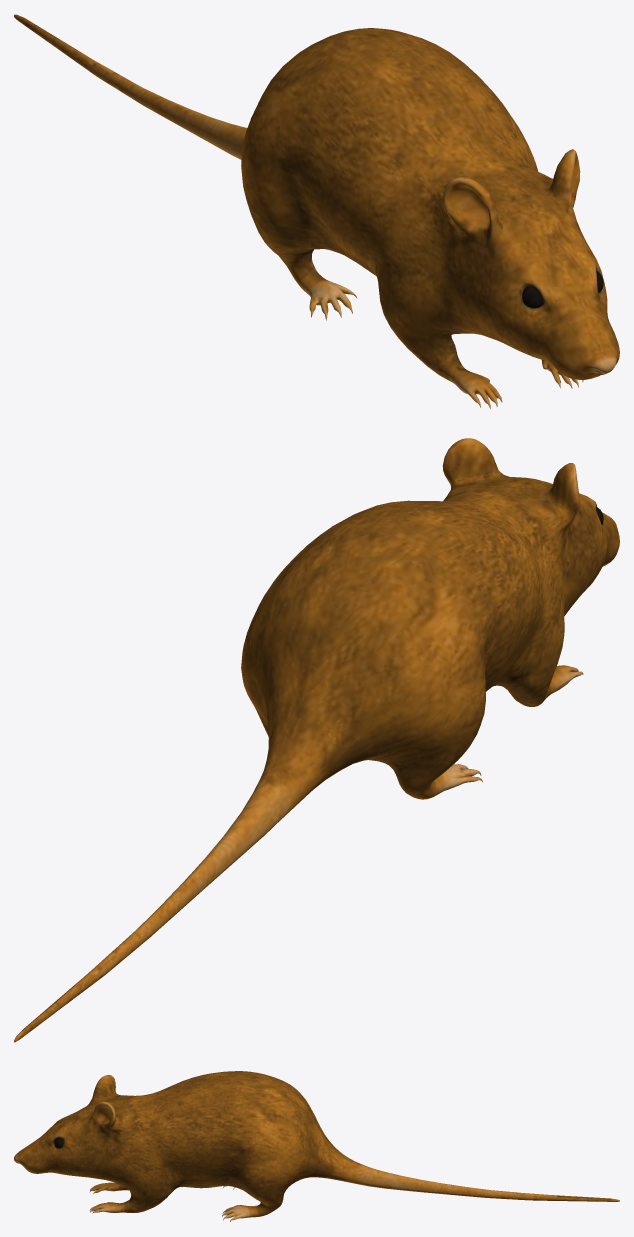
File: nyb_stairs_rat.glb
3 views of the same model, one above another, from view 1: azimuth 30°, elevation 25°; view 2: azimuth 150°, elevation 25°; view 3: azimuth 270°, elevation 25° (orthographic). The views are drawn at different scales.
Parts seen in each view (by area): view 1: street_rat; view 2: street_rat; view 3: street_rat.
Part boxes in pixels (box(x1,y1,x2,y2)): street_rat: box(14, 14, 619, 408); street_rat: box(14, 438, 619, 1042); street_rat: box(14, 1071, 619, 1221).
Size of the model in its own units: 0.032 by 0.0339 by 0.1483.
Materials: 1 (1 with a texture image).
